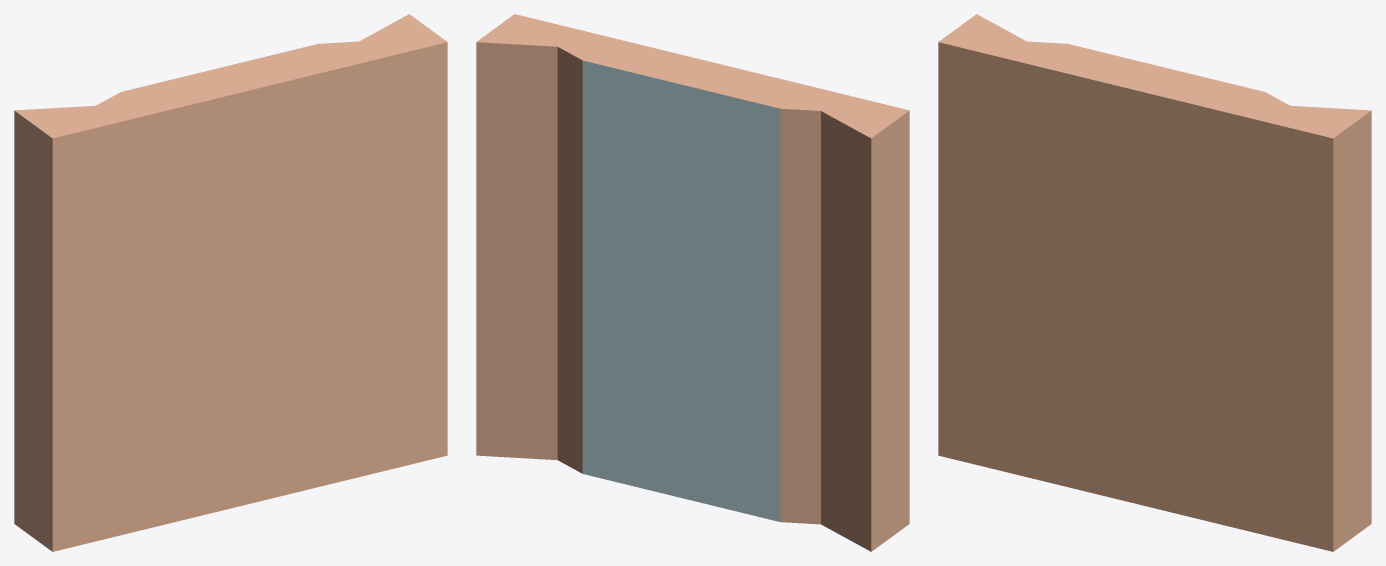
Rendered from cliff_waterfall_rock.glb.
3 views of the same model, side by side, from view 1: azimuth 30°, elevation 25°; view 2: azimuth 150°, elevation 25°; view 3: azimuth 330°, elevation 25° (orthographic).
Visible parts, largest first — view 1: cliff_waterfall_rock; view 2: cliff_waterfall_rock; view 3: cliff_waterfall_rock.
Part boxes in pixels (box(x1,y1,x2,y2)): cliff_waterfall_rock: box(14, 14, 447, 551); cliff_waterfall_rock: box(476, 14, 909, 551); cliff_waterfall_rock: box(938, 14, 1371, 551).
Size of the model in its own units: 1 by 1 by 0.1685.
